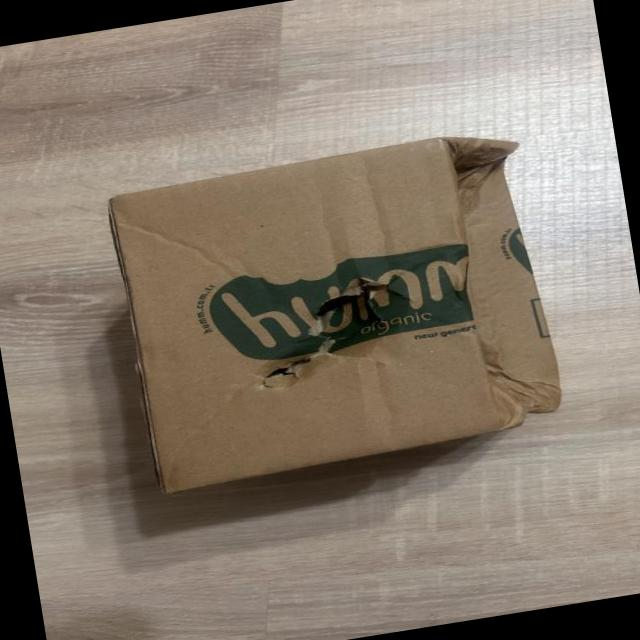box: (107, 138, 561, 492)
crushed: (435, 136, 561, 441), (308, 161, 393, 273), (112, 215, 247, 283)
opened: (255, 276, 409, 391)
